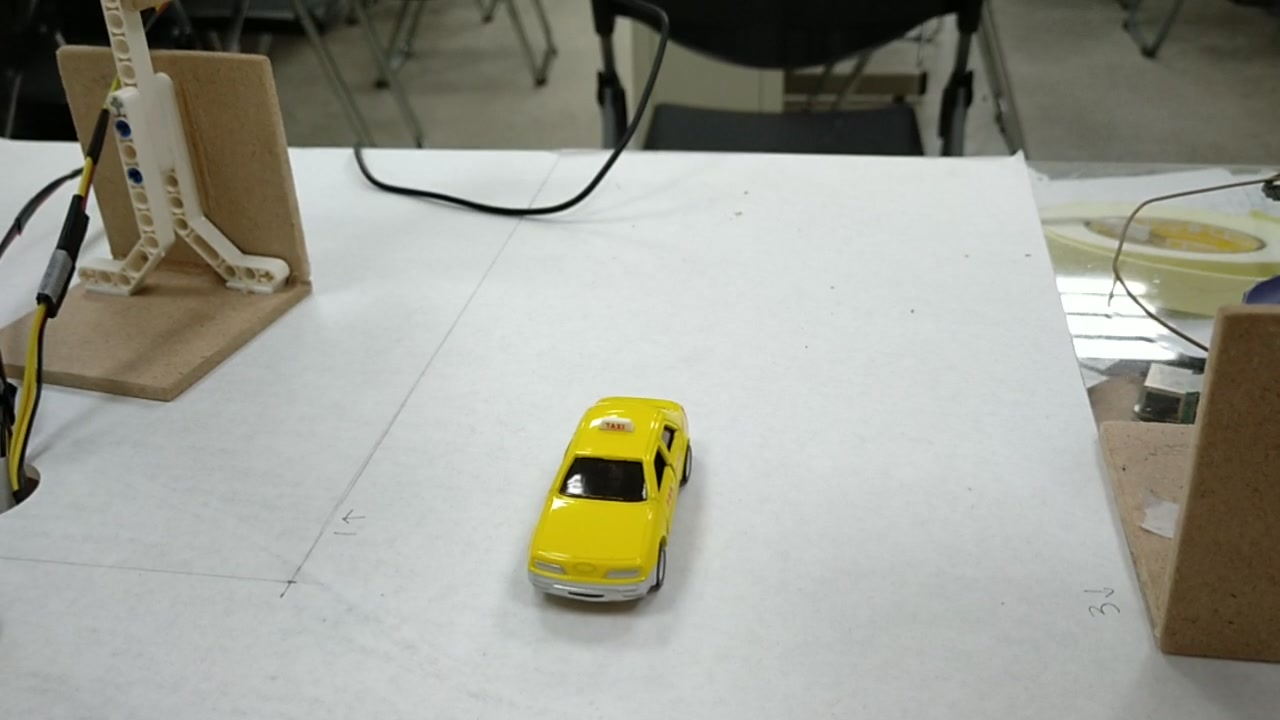car: (523, 396, 692, 604)
